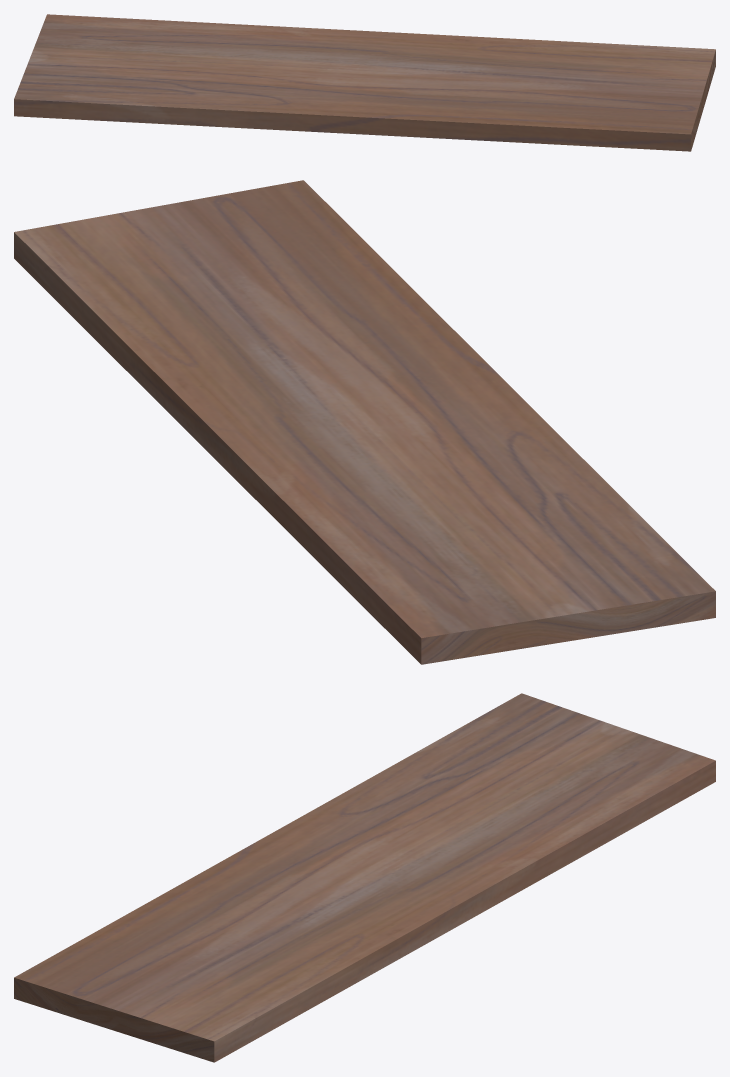
File: plank_064.fbx
3 views of the same model, one above another, from view 1: azimuth 30°, elevation 25°; view 2: azimuth 150°, elevation 25°; view 3: azimuth 270°, elevation 25° (orthographic). The views are drawn at different scales.
Parts seen in each view (by area): view 1: plank.064; view 2: plank.064; view 3: plank.064.
Part boxes in pixels (<box>): plank.064: <box>14,14,715,151</box>; plank.064: <box>14,180,715,664</box>; plank.064: <box>14,693,715,1062</box>.
Size of the model in its own units: 35.05 by 0.9957 by 29.86.
